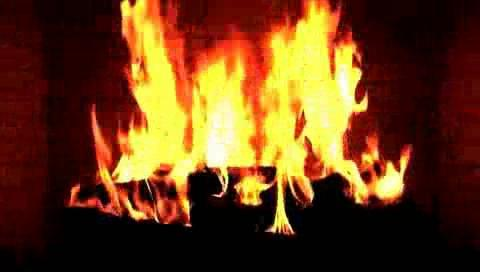fire: (82, 0, 420, 232)
